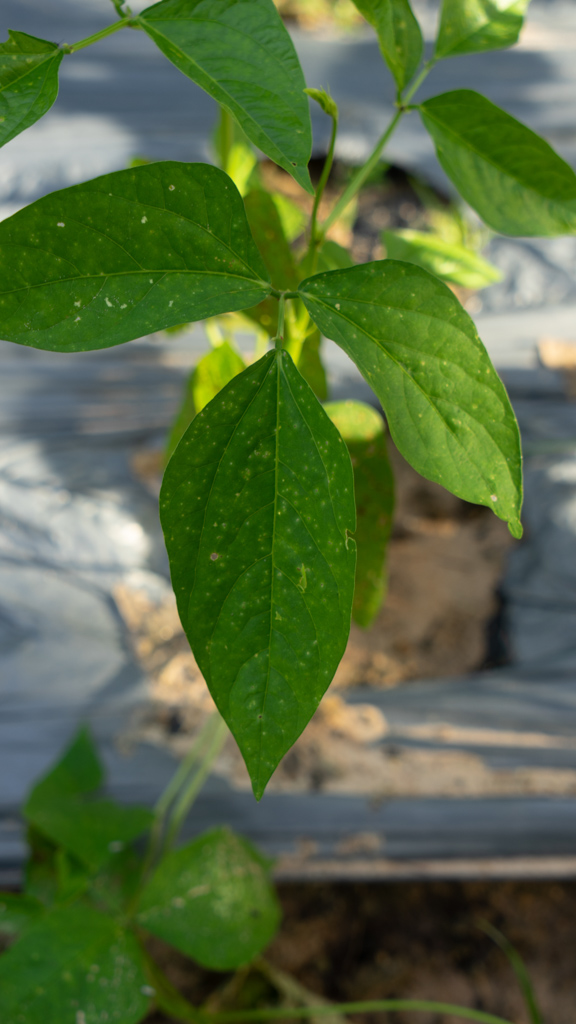Rust: (181, 359, 331, 780), (340, 280, 521, 491), (29, 162, 230, 337), (10, 919, 151, 1017), (179, 846, 271, 956)
